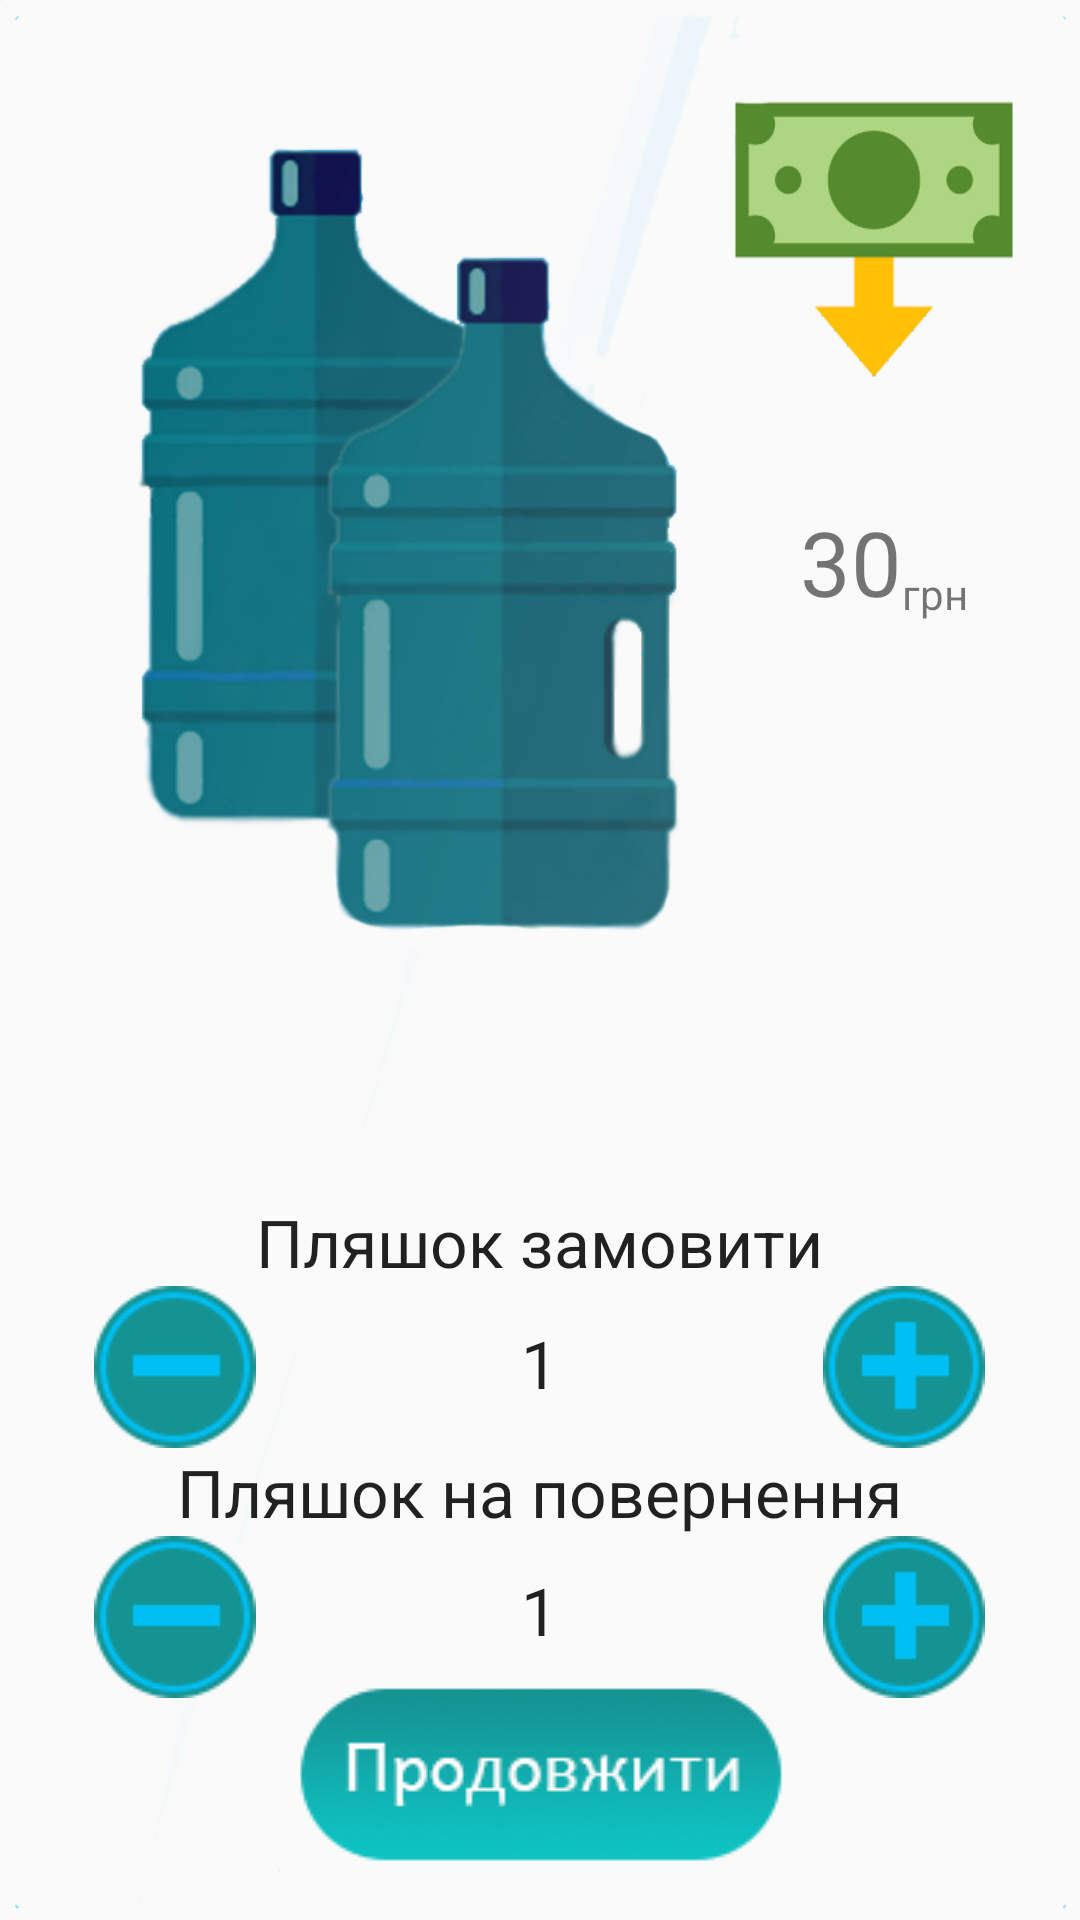

Icons on this 1080*1920 Android screen, each with the point to tap as [x,y]:
minus: [175,1367], [175,1617]
plus: [904,1367], [904,1617]
